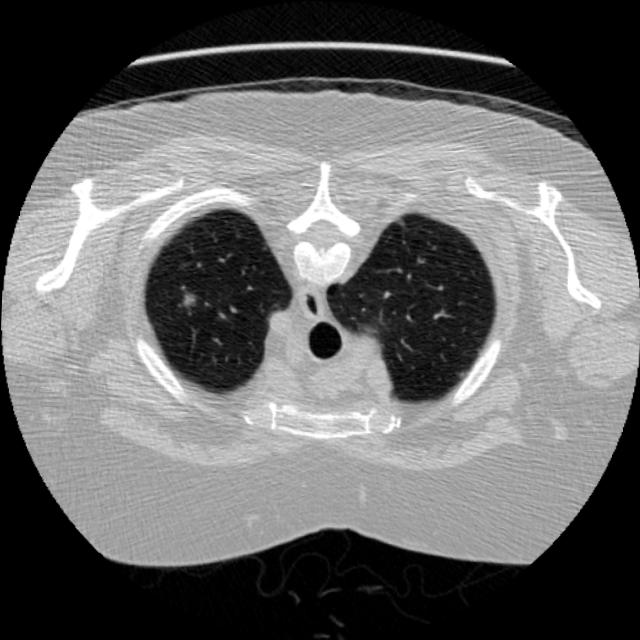nodule: (174, 284, 205, 315)
